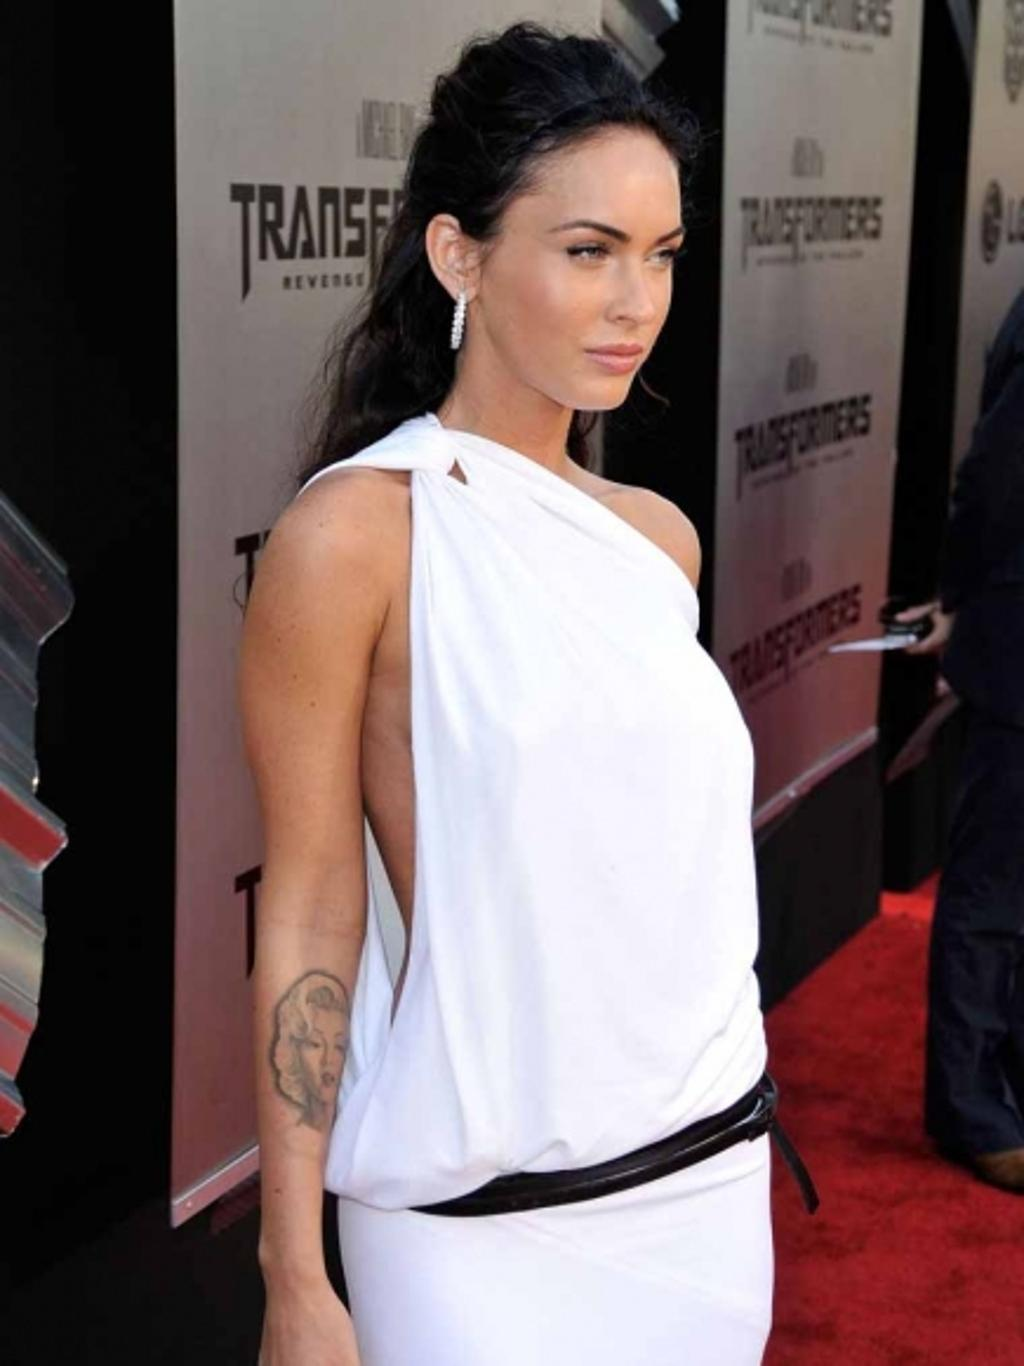face: (489, 134, 678, 411)
